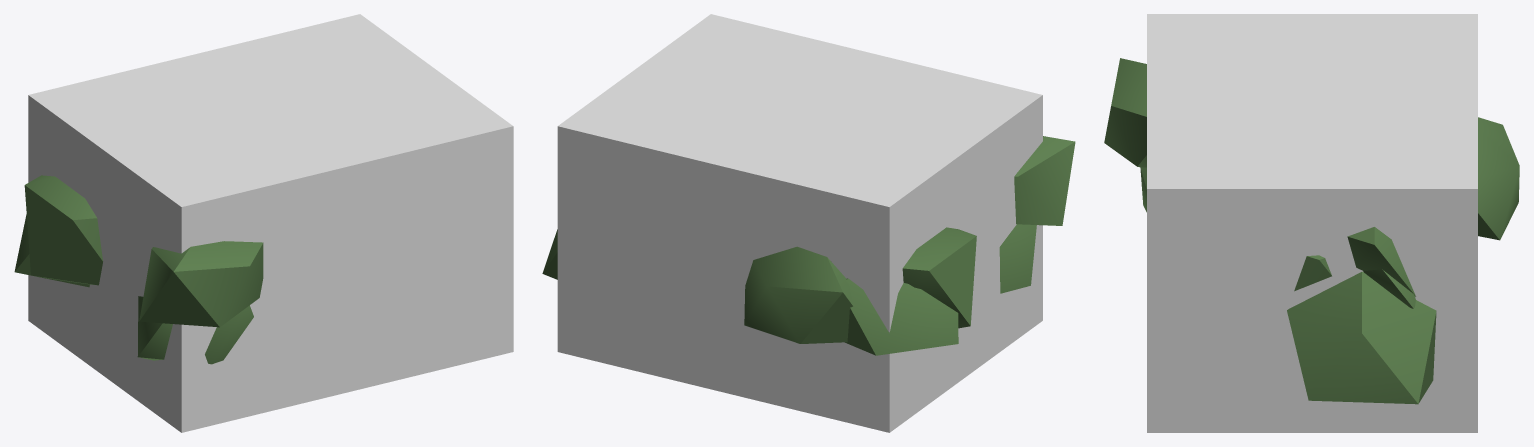
The model's file is bush_dense_a.glb.
The picture shows the model from 3 angles, left to right: view 1: azimuth 30°, elevation 25°; view 2: azimuth 150°, elevation 25°; view 3: azimuth 270°, elevation 25°; orthographic projection. The views are drawn at different scales.
Parts seen in each view (by area): view 1: bush_dense_a-convcol, bush_mesh; view 2: bush_dense_a-convcol, bush_mesh; view 3: bush_dense_a-convcol, bush_mesh.
Boxes of the visible parts, <box> form: bush_dense_a-convcol: <box>28,14,513,432</box>; bush_mesh: <box>14,175,263,364</box>; bush_dense_a-convcol: <box>557,14,1042,432</box>; bush_mesh: <box>542,136,1075,355</box>; bush_dense_a-convcol: <box>1147,14,1477,432</box>; bush_mesh: <box>1104,58,1519,404</box>.
Size of the model in its own units: 2.51 by 1.3 by 2.01.
